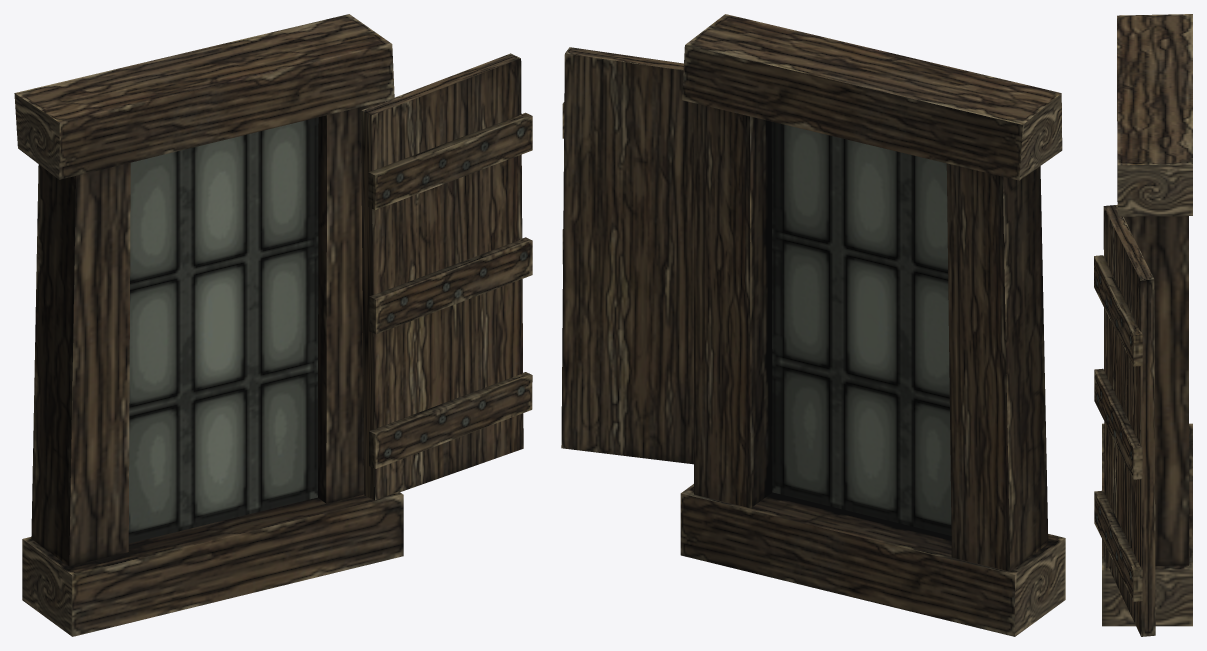
The model's file is Window_03.fbx.
3 renders of one model, left to right at view 1: azimuth 30°, elevation 25°; view 2: azimuth 150°, elevation 25°; view 3: azimuth 270°, elevation 25°, orthographic. The views are drawn at different scales.
Visible parts, largest first — view 1: Window_03; view 2: Window_03; view 3: Window_03.
Part boxes in pixels (bbox=[...]): Window_03: bbox=[14, 14, 532, 636]; Window_03: bbox=[561, 14, 1065, 636]; Window_03: bbox=[1094, 14, 1192, 636].
Size of the model in its own units: 2.05 by 2.06 by 0.3989.
